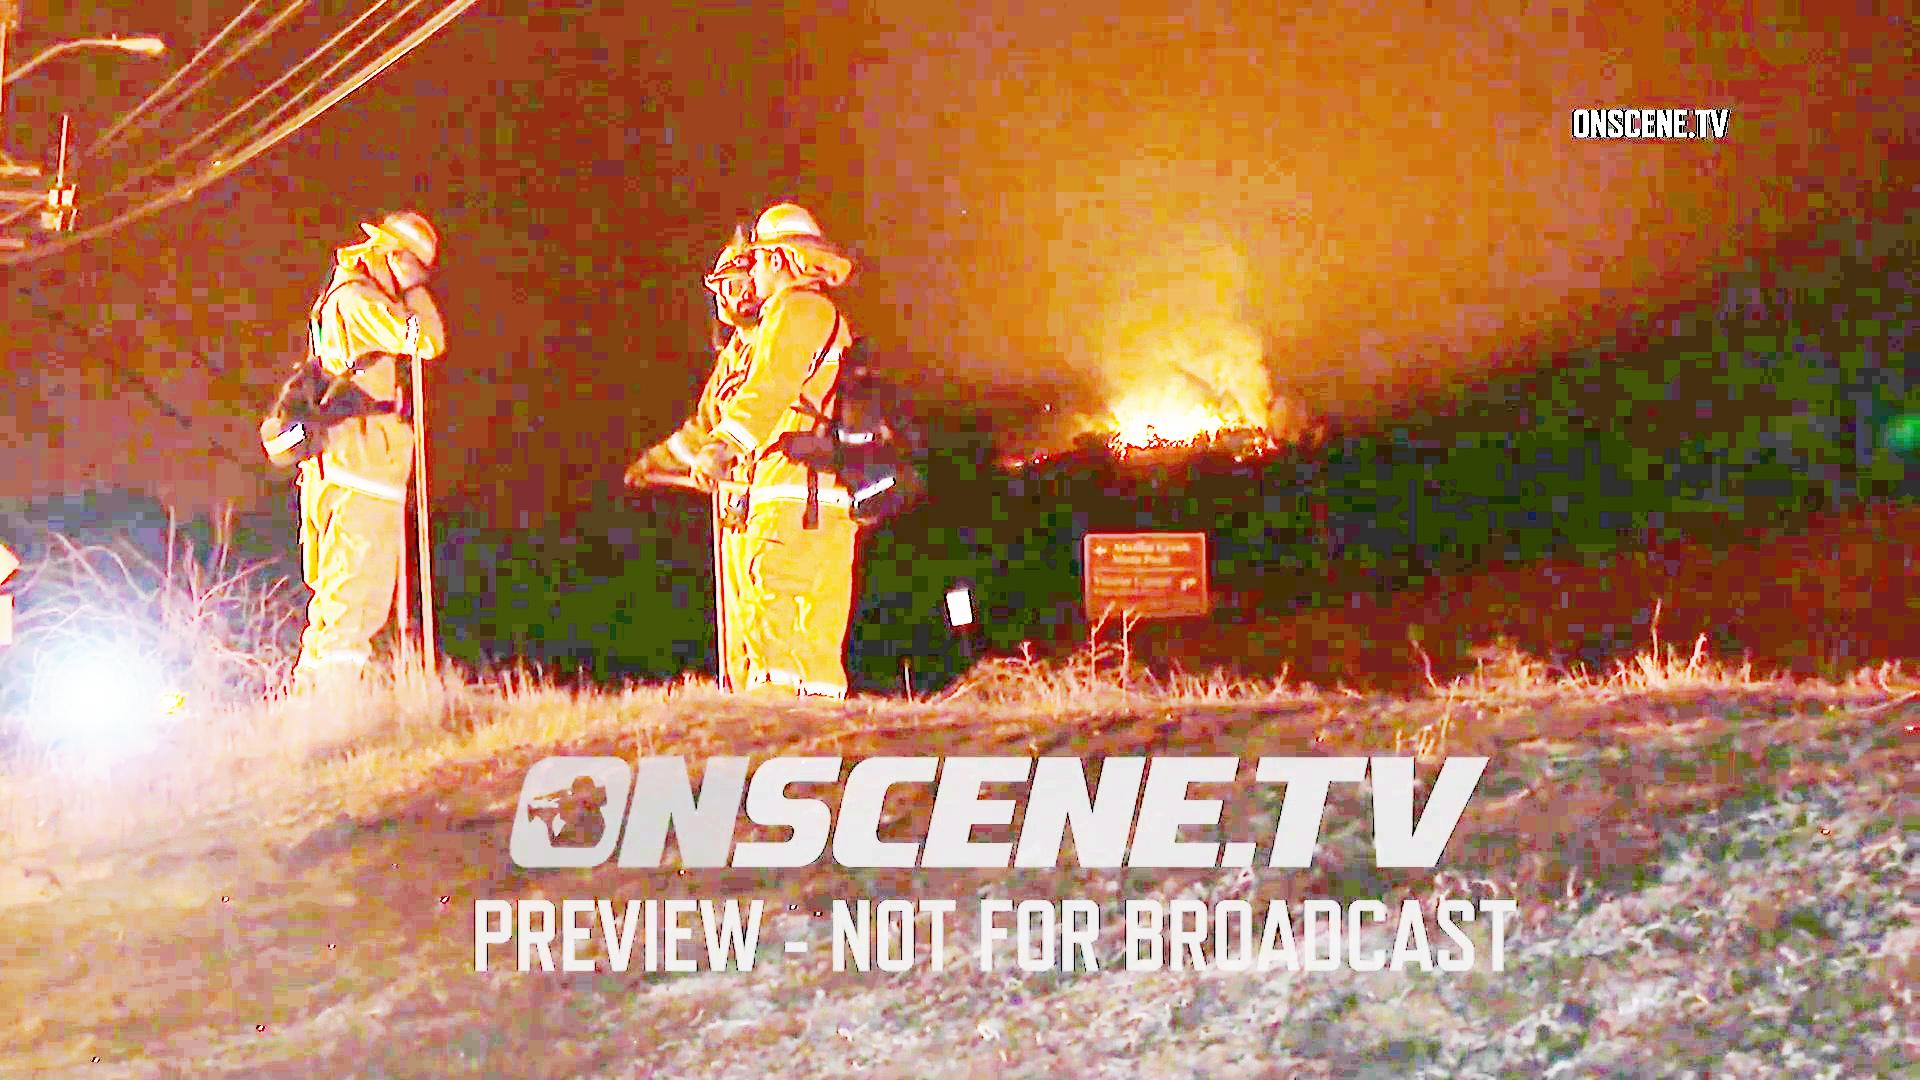fire: (1124, 390, 1199, 448)
